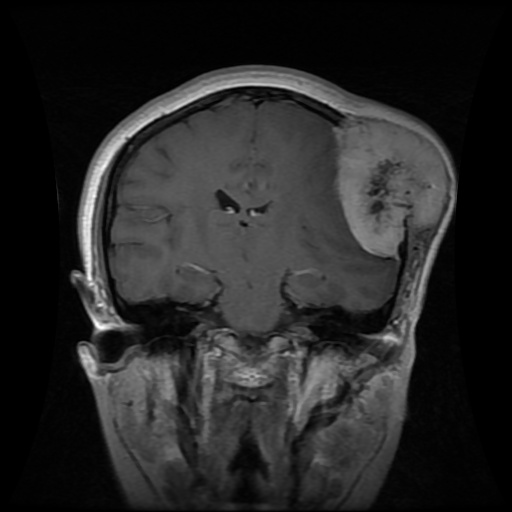meningioma: (334, 117, 445, 258)
